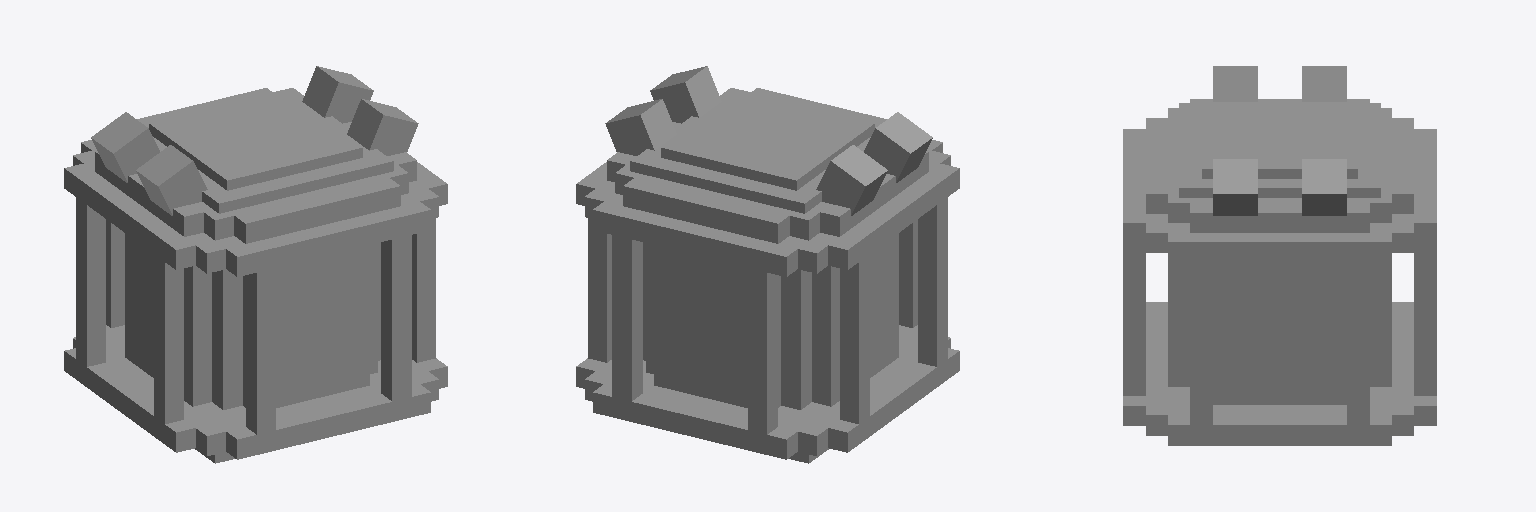
The model's file is reactor_cell_top.obj.
3 renders of one model, left to right at view 1: azimuth 30°, elevation 25°; view 2: azimuth 150°, elevation 25°; view 3: azimuth 270°, elevation 25°, orthographic.
Visible parts, largest first — view 1: MiddlePBack, HatCover, MiddlePRight, TopBaseDepth, BaseDepth, HatDepth, TopBaseWidth, BaseWidth, OPBackLeft, OPBackRight, HatTop, OPRightBack (+13 smaller); view 2: MiddlePFront, HatCover, MiddlePRight, TopBaseDepth, HatDepth, BaseDepth, TopBaseWidth, OPFrontLeft, Base, BaseWidth, OPFrontRight, HatTop (+13 smaller); view 3: MiddlePLeft, HatCover, BaseWidth, TopBaseWidth, BaseDepth, HatTop, TopBaseDepth, HatWidth, HatDepth, OPLeftBack, OPLeftFront1, OPBackLeft (+10 smaller).
Boxes of the visible parts, box(x1,y1,x2,y2) form: MiddlePBack: box(243, 245, 369, 407); HatCover: box(149, 90, 362, 190); MiddlePRight: box(125, 233, 211, 406); TopBaseDepth: box(81, 140, 430, 276); BaseDepth: box(106, 325, 430, 459); HatDepth: box(137, 88, 400, 243); TopBaseWidth: box(64, 162, 447, 269); BaseWidth: box(64, 348, 447, 452); OPBackLeft: box(381, 235, 411, 401); OPBackRight: box(246, 268, 275, 434); HatTop: box(144, 88, 393, 213); OPRightBack: box(154, 254, 183, 423); MiddlePFront: box(654, 245, 780, 407); HatCover: box(661, 90, 874, 190); MiddlePRight: box(812, 233, 898, 406); TopBaseDepth: box(593, 140, 942, 276); HatDepth: box(623, 88, 886, 243); BaseDepth: box(593, 325, 917, 459); TopBaseWidth: box(576, 161, 959, 269); OPFrontLeft: box(612, 235, 642, 401); Base: box(585, 325, 950, 455); BaseWidth: box(576, 348, 959, 452); OPFrontRight: box(748, 268, 777, 434); HatTop: box(630, 88, 879, 213); MiddlePLeft: box(1213, 263, 1346, 404); HatCover: box(1202, 102, 1357, 178); BaseWidth: box(1168, 387, 1391, 444); TopBaseWidth: box(1168, 223, 1391, 262); BaseDepth: box(1123, 311, 1436, 425); HatTop: box(1179, 103, 1380, 197); TopBaseDepth: box(1123, 129, 1436, 243); HatWidth: box(1190, 99, 1369, 232); HatDepth: box(1146, 118, 1413, 213); OPLeftBack: box(1190, 263, 1212, 424); OPLeftFront1: box(1347, 263, 1369, 424); OPBackLeft: box(1123, 244, 1145, 395).
Bounding box in the file's own units: 0.875 × 0.8824 × 0.875.